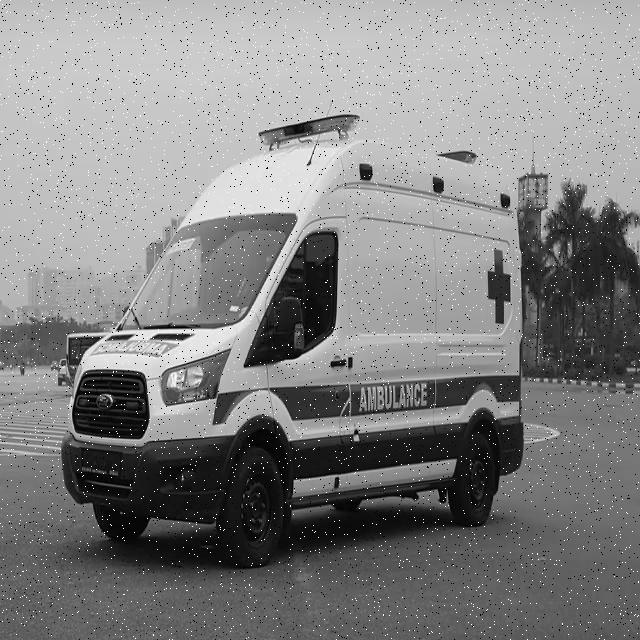Ambulance: (59, 114, 528, 571)
